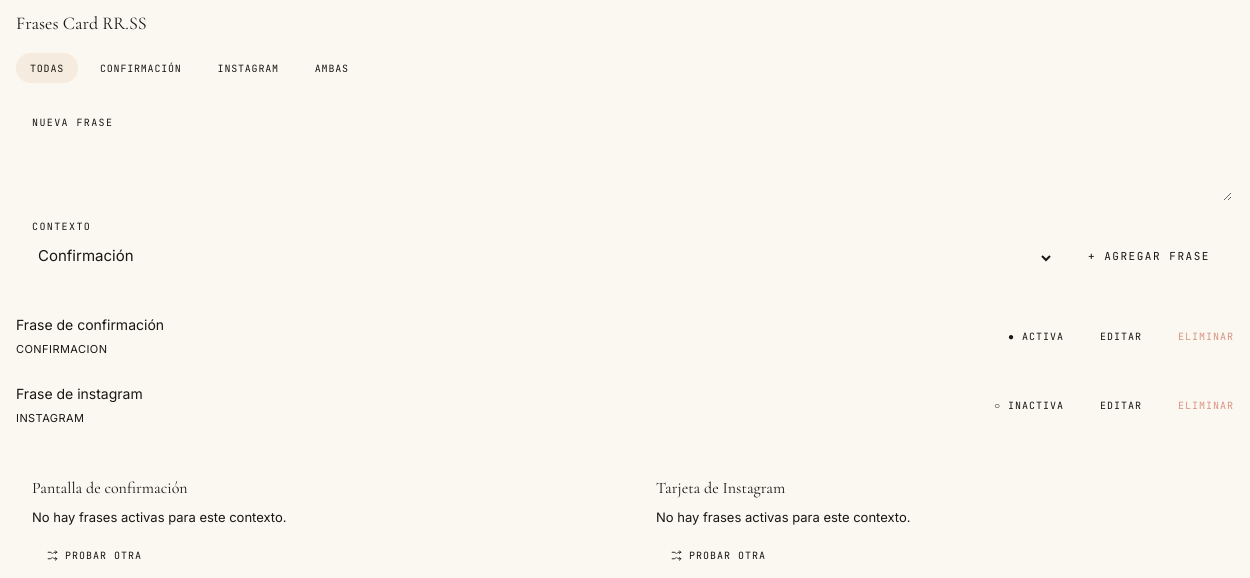
Scenario: PhrasesPanel › filters the list by context
Check: the text "Frase de confirmación" is shown, box [16,316,164,333]
Click the button "Instagram" at (248, 68), box [204,53,293,83]
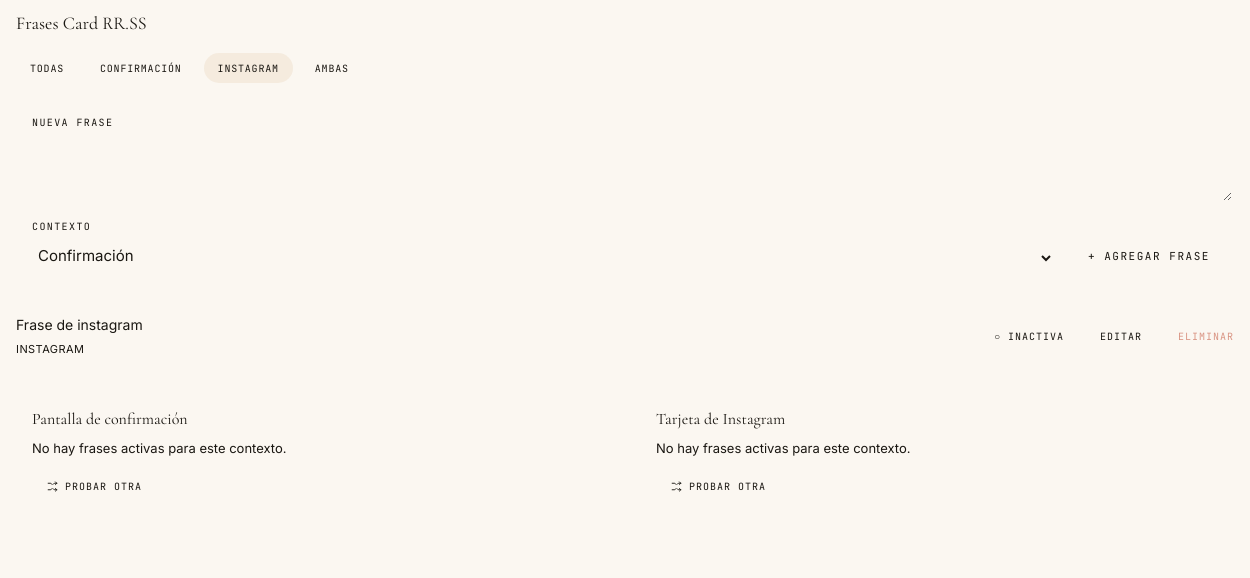
Check: the text "Frase de instagram" is shown, box [16,316,143,333]
Check: the text "Frase de confirmación" is gone
